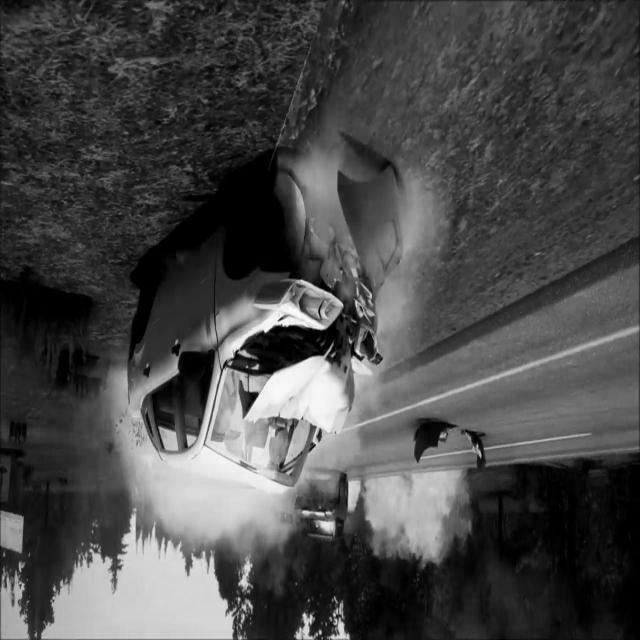severe: (120, 148, 398, 507)
